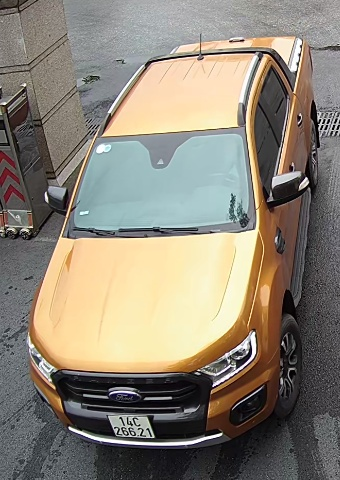vehicle plate: (100, 410, 161, 446)
